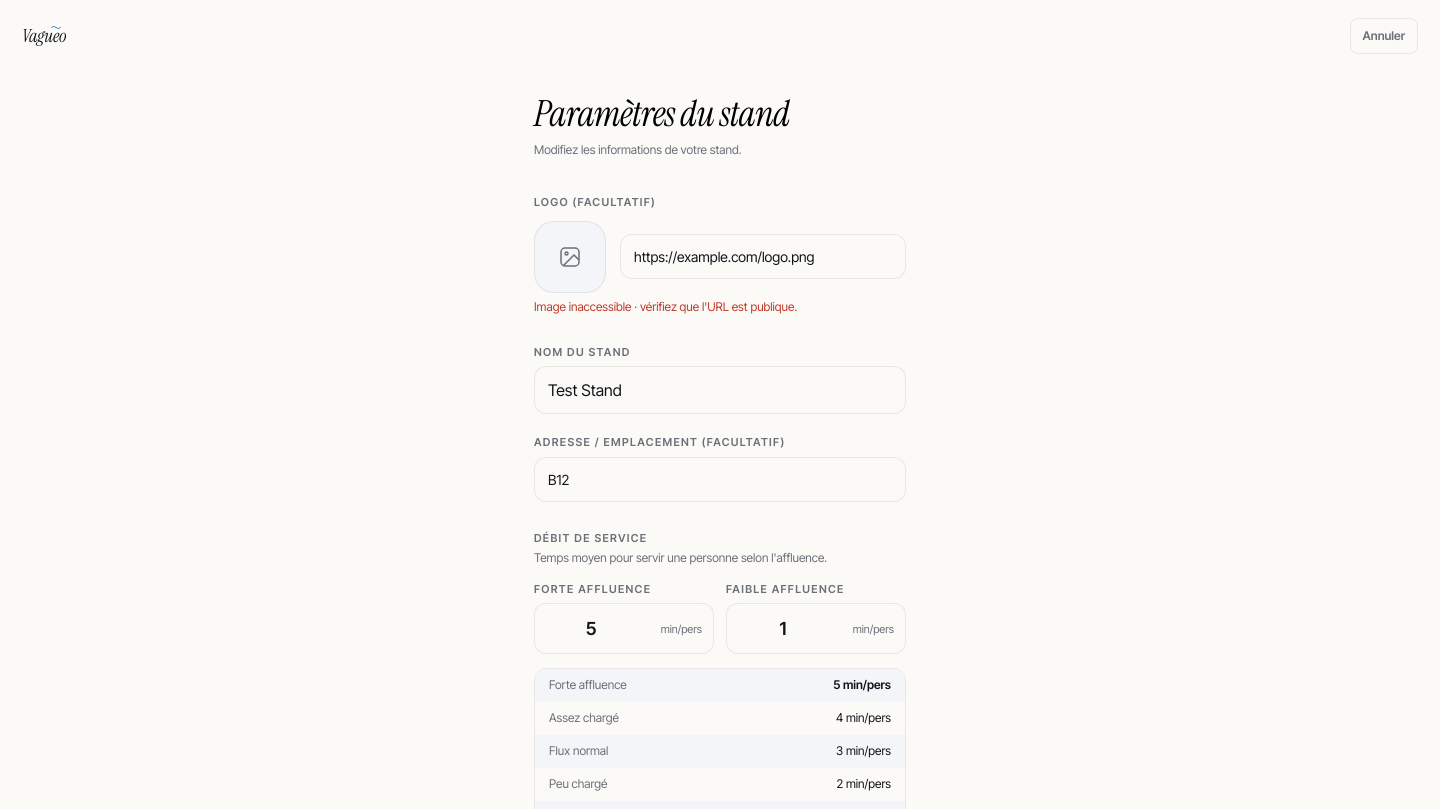
Test: ScreenVendorSetup › clears logo error when URL is changed
Expected: the text "Image inaccessible · vérifiez que l'URL est publique." is shown, top-left (534, 299), bottom-right (797, 314)
Replace the text in the field with placeholder "https://… (lien vers votre logo)" with "https://new.com/img.png" at (763, 257), box top-left (620, 234), bottom-right (906, 279)
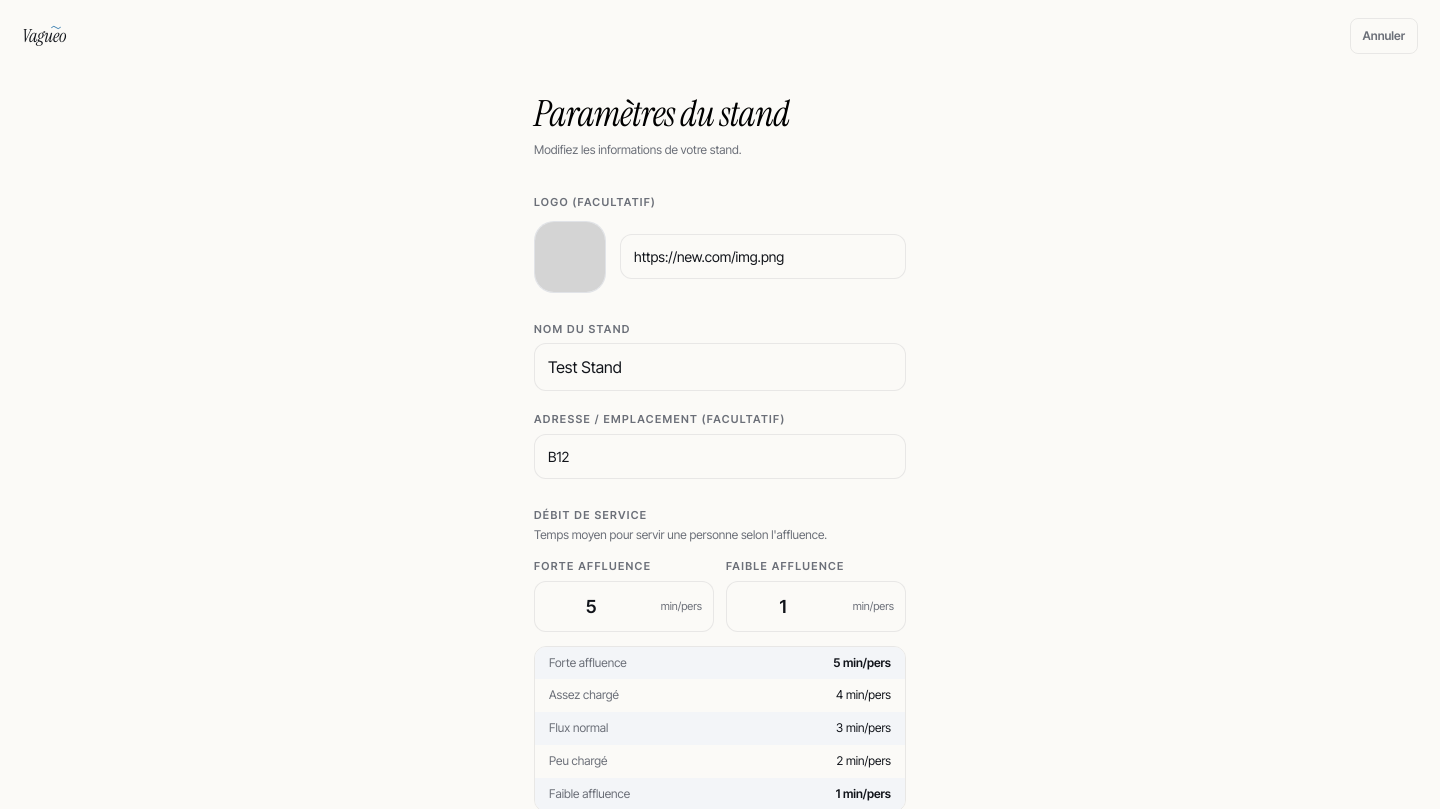
Expected: the text "Image inaccessible" is gone
